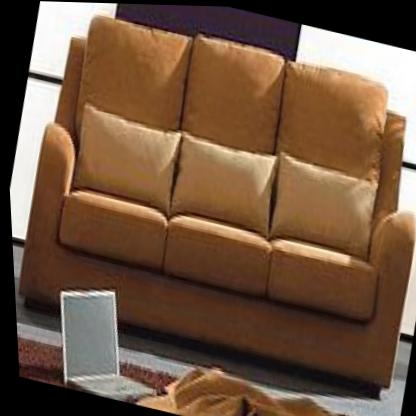Sofa: (0, 0, 416, 404)
